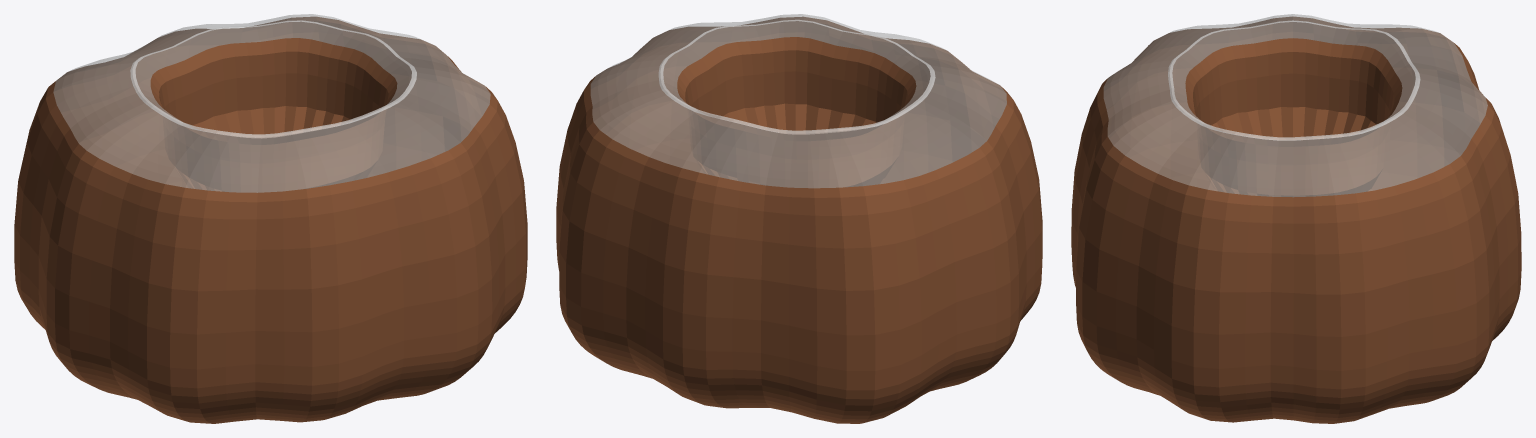
Rendered from Marmorkuchen.fbx.
3 views of the same model, side by side, from view 1: azimuth 30°, elevation 25°; view 2: azimuth 150°, elevation 25°; view 3: azimuth 270°, elevation 25° (orthographic). The views are drawn at different scales.
Visible parts, largest first — view 1: Cube; view 2: Cube; view 3: Cube.
Part boxes in pixels (box(x1,y1,x2,y2)): Cube: box(14, 14, 527, 423); Cube: box(556, 14, 1042, 423); Cube: box(1071, 14, 1521, 423).
Bounding box in the file's own units: 110 × 69.21 × 100.
